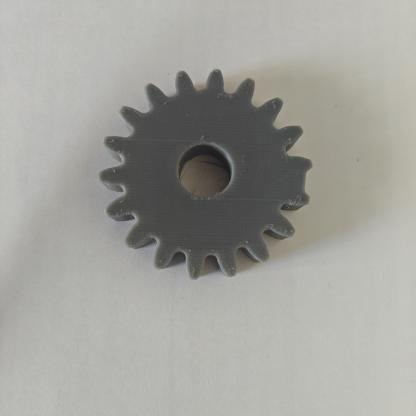defect: (269, 147, 319, 214)
gear: (86, 56, 330, 307)
